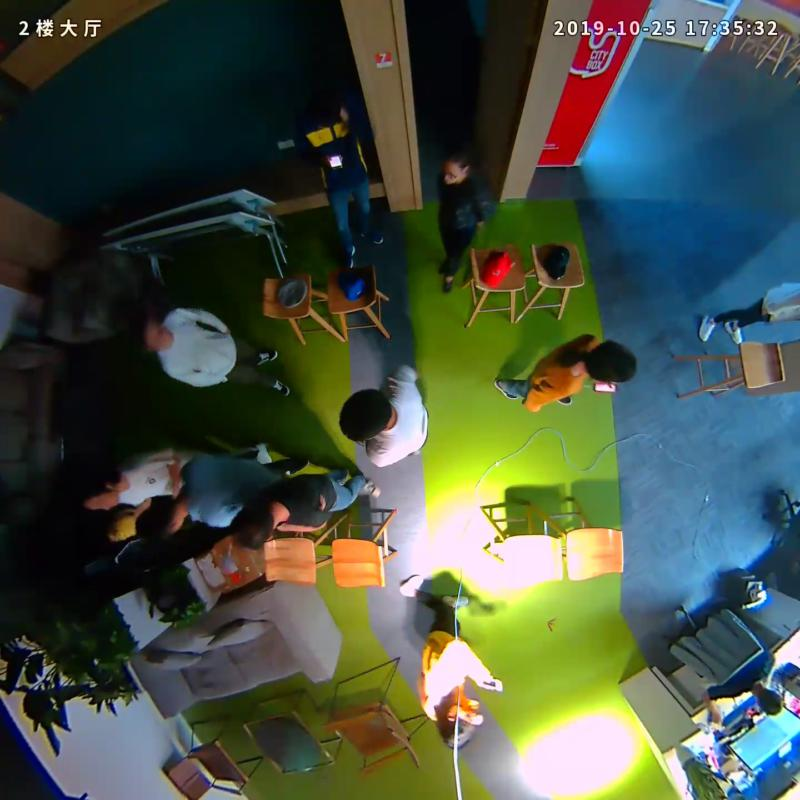head: (339, 387, 392, 442), (69, 466, 125, 512), (435, 697, 481, 751), (232, 501, 281, 551), (589, 341, 638, 383), (297, 68, 339, 111), (442, 141, 481, 184), (129, 317, 170, 352)
